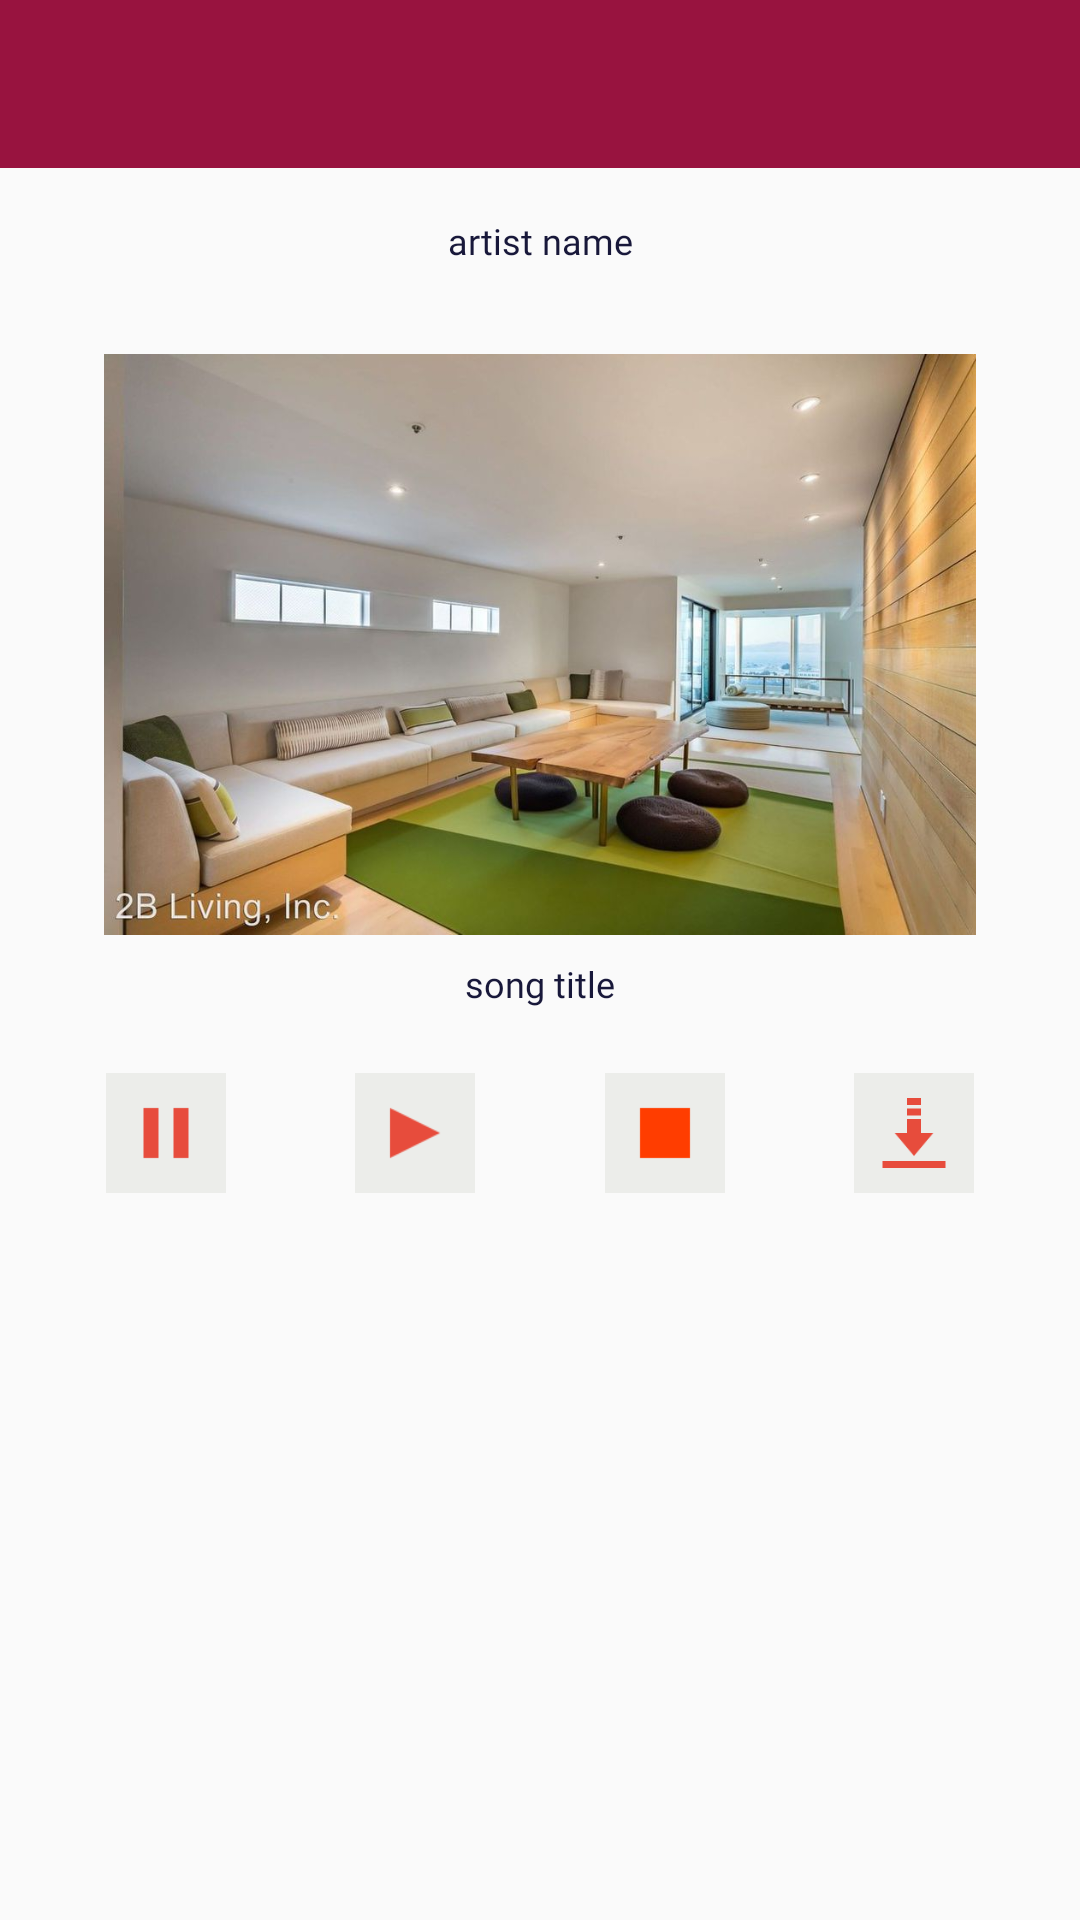

Named icons in this screenshot (1080x1920) and their bounding boxes, (x1, y1, x2, y2):
download: (854, 1073, 974, 1193)
pause: (143, 1107, 189, 1159)
play: (389, 1107, 440, 1159)
stop: (639, 1107, 691, 1159)
